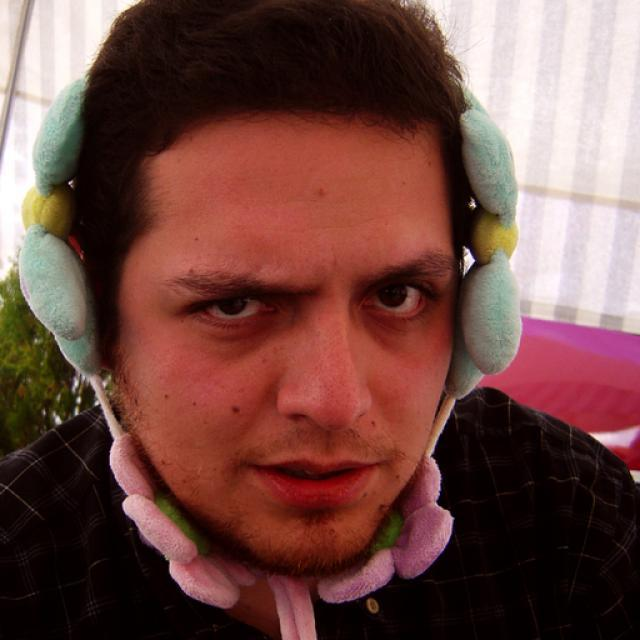anger: (120, 112, 458, 576)
